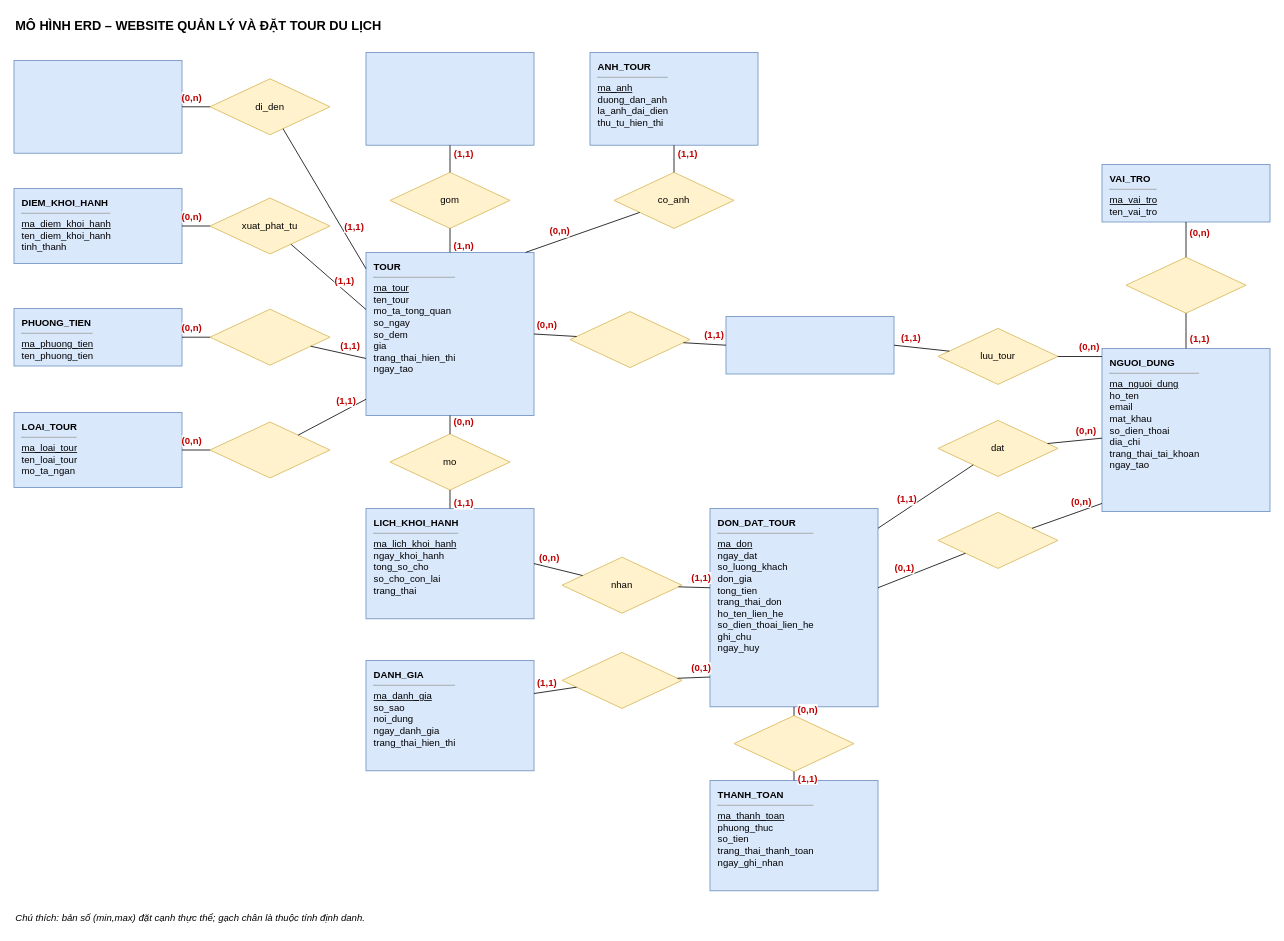
Some shapes in this 1284 by 941 pixel diagram are drawn without their labels. Each missing label, with the centre of its shape:
"co_danh_gia" goes at (621,680).
"co_vai_tro" goes at (1185,284).
"di_chuyen_bang" goes at (269,336).
"DIEM_DEN ma_diem_den ten_diem_den tinh_thanh mo_ta_ngan" goes at (97,106).
"duoc_luu" goes at (629,339).
"ghi_nhan" goes at (793,743).
"LICH_TRINH ma_lich_trinh ngay_thu tieu_de noi_dung_hoat_dong" goes at (449,98).
"thuoc_loai" goes at (269,449).
"xu_ly" goes at (997,540).
"YEU_THICH ma_yeu_thich ngay_them" goes at (809,345).
